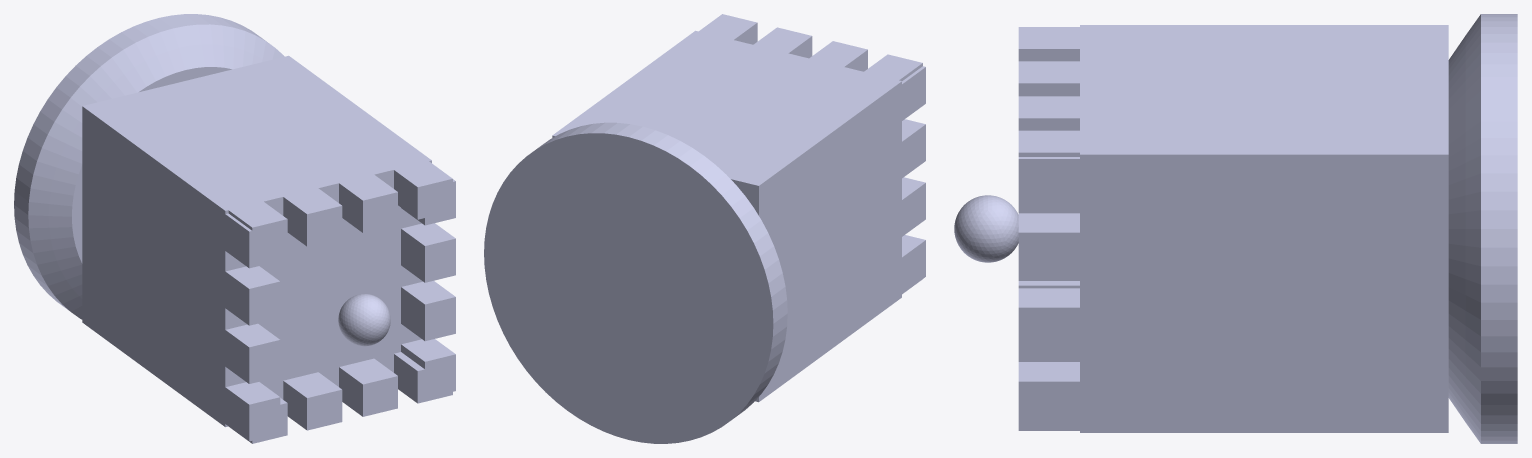
The model's file is durg_chandra.glb.
The picture shows the model from 3 angles, left to right: view 1: azimuth 30°, elevation 25°; view 2: azimuth 150°, elevation 25°; view 3: azimuth 270°, elevation 25°; orthographic projection. The views are drawn at different scales.
Visible parts, largest first — view 1: geometry_0; view 2: geometry_0; view 3: geometry_0.
Part boxes in pixels (<box>): geometry_0: <box>14,14,455,443</box>; geometry_0: <box>484,14,925,443</box>; geometry_0: <box>954,14,1517,443</box>.
Size of the model in its own units: 0.028 by 0.028 by 0.0367.
